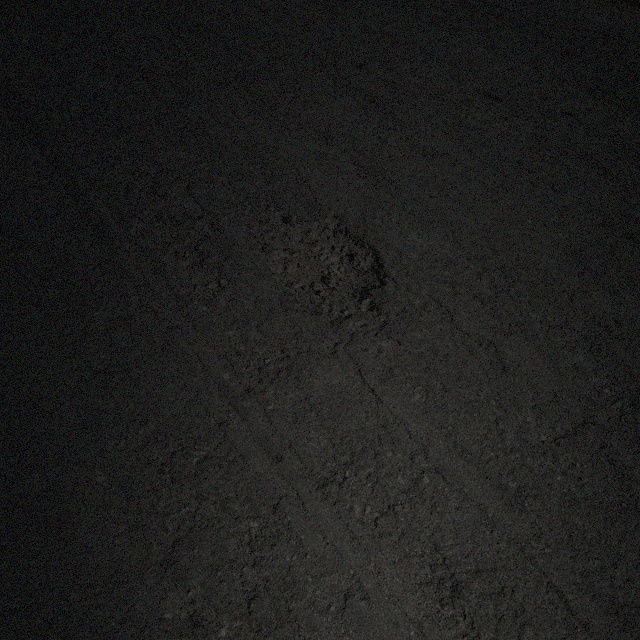pothole: (97, 159, 229, 306), (255, 206, 390, 324)
